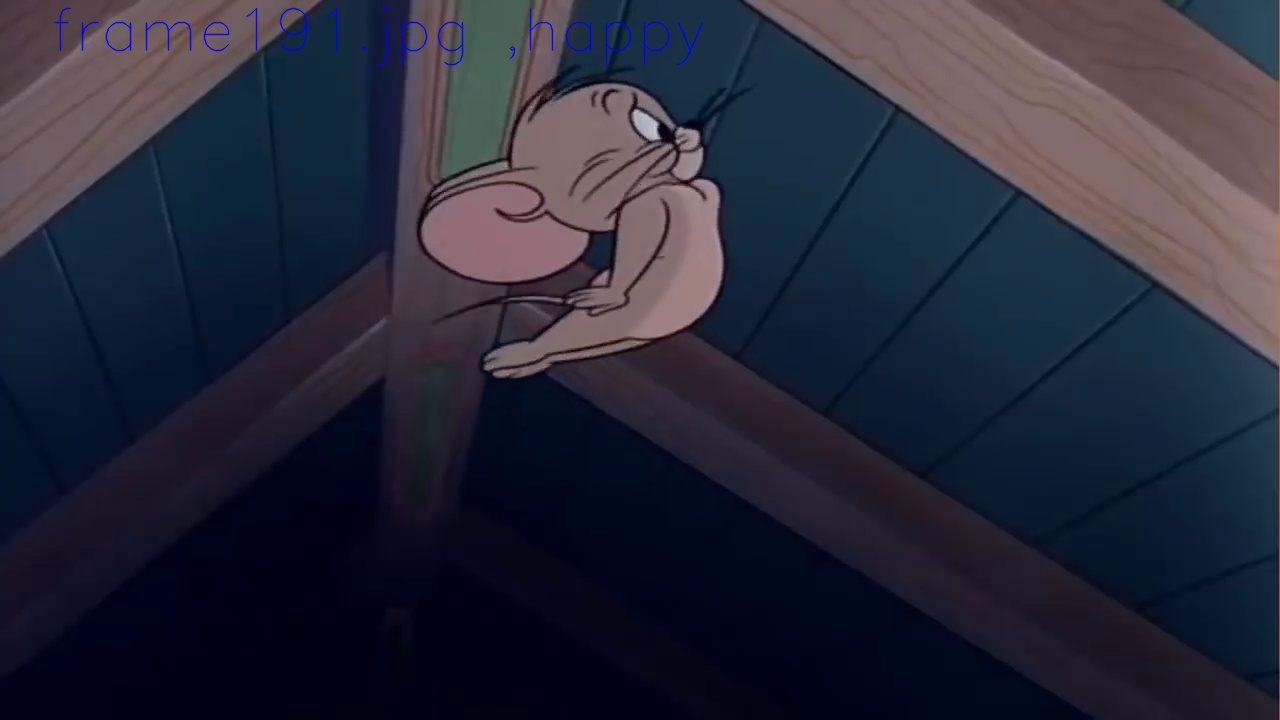happy: (587, 82, 704, 179)
